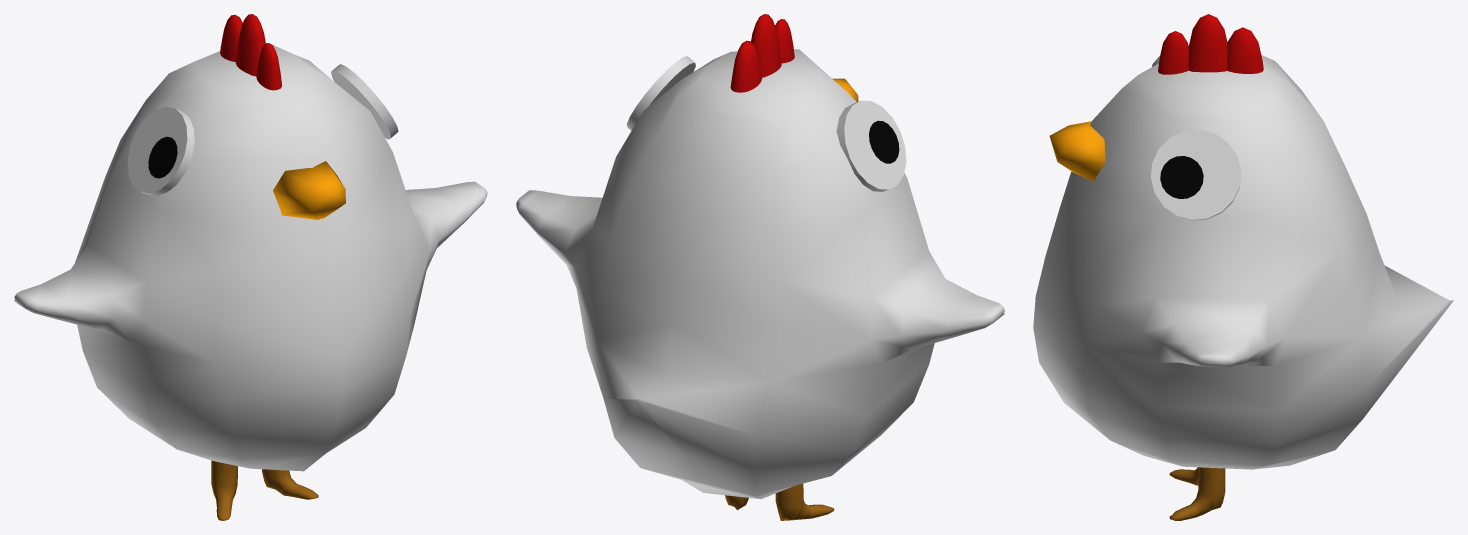
Rendered from SK_ChickenV0@Hen.fbx.
3 views of the same model, side by side, from view 1: azimuth 30°, elevation 25°; view 2: azimuth 150°, elevation 25°; view 3: azimuth 270°, elevation 25° (orthographic). The views are drawn at different scales.
Visible parts, largest first — view 1: body, eye1, mouth, comb, foot, eye2; view 2: body, eye1, comb, foot, eye2; view 3: body, eye1, comb, mouth, foot, eye2.
Part boxes in pixels (box(x1,y1,x2,y2)): body: box(14, 44, 487, 471); eye1: box(127, 64, 398, 195); mouth: box(273, 161, 345, 219); comb: box(220, 14, 281, 90); foot: box(211, 460, 318, 520); eye2: box(148, 136, 177, 178); body: box(516, 49, 1004, 499); eye1: box(626, 56, 906, 191); comb: box(730, 14, 794, 92); foot: box(725, 483, 834, 520); eye2: box(869, 120, 899, 163); body: box(1033, 55, 1453, 469); eye1: box(1150, 56, 1241, 220); comb: box(1158, 14, 1263, 74); mouth: box(1049, 121, 1105, 181); foot: box(1169, 467, 1225, 520); eye2: box(1160, 156, 1203, 198).
Size of the model in its own units: 595 by 597 by 468.
